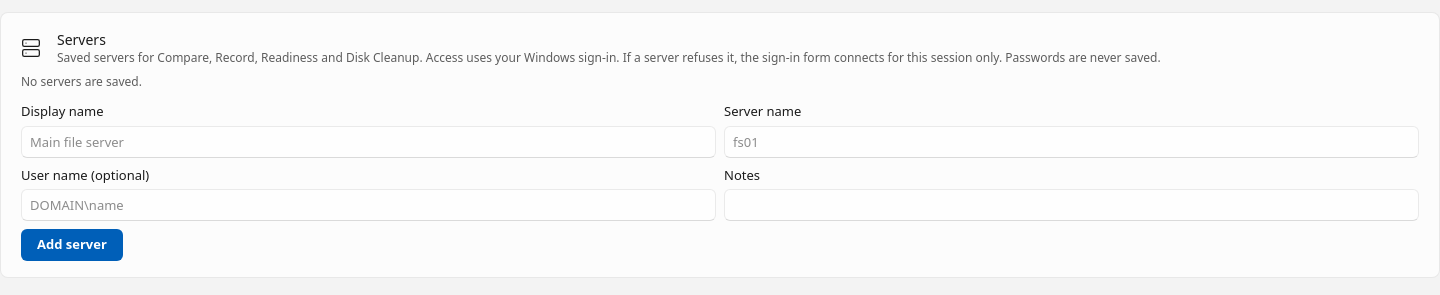
Settings > Servers › asks for a usable server name
In the field labelled "Server name": (1072, 142) x1=724 y1=126 x2=1419 y2=158, type "C:\\Data"
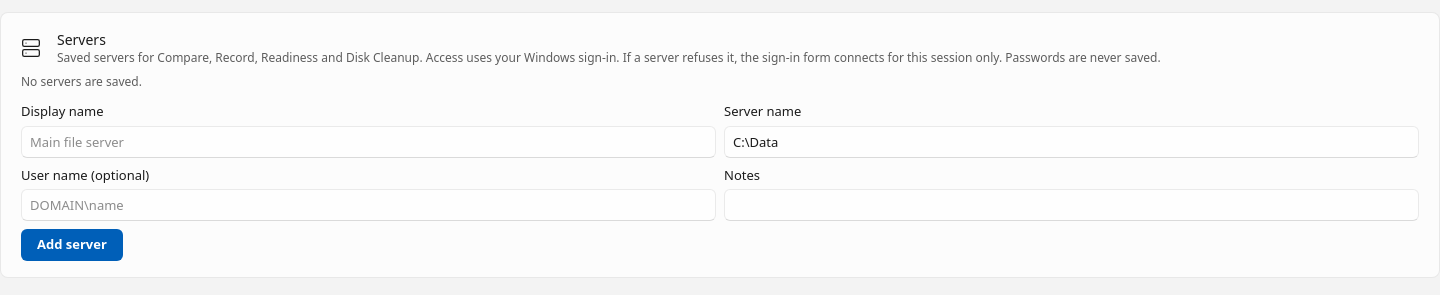
Click the button "Add server": (72, 245) x1=21 y1=229 x2=123 y2=261
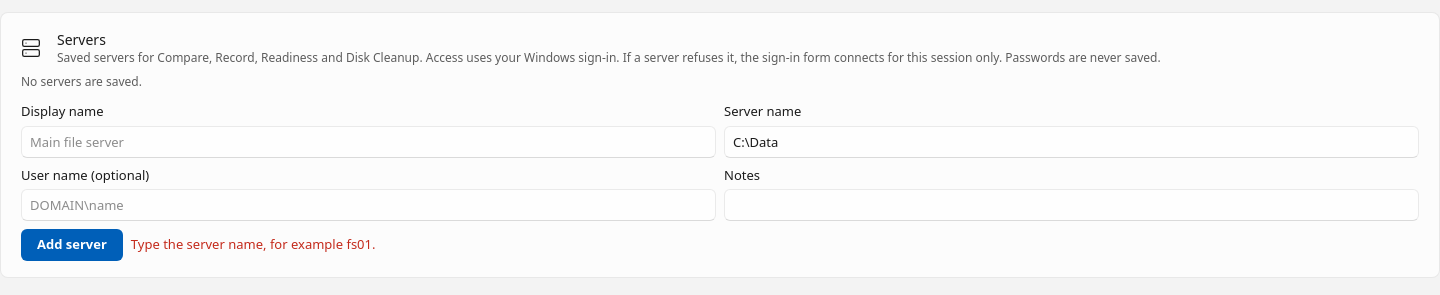
expect the message "Type the server name, for example fs01." is shown: met, box x1=131 y1=235 x2=375 y2=255
